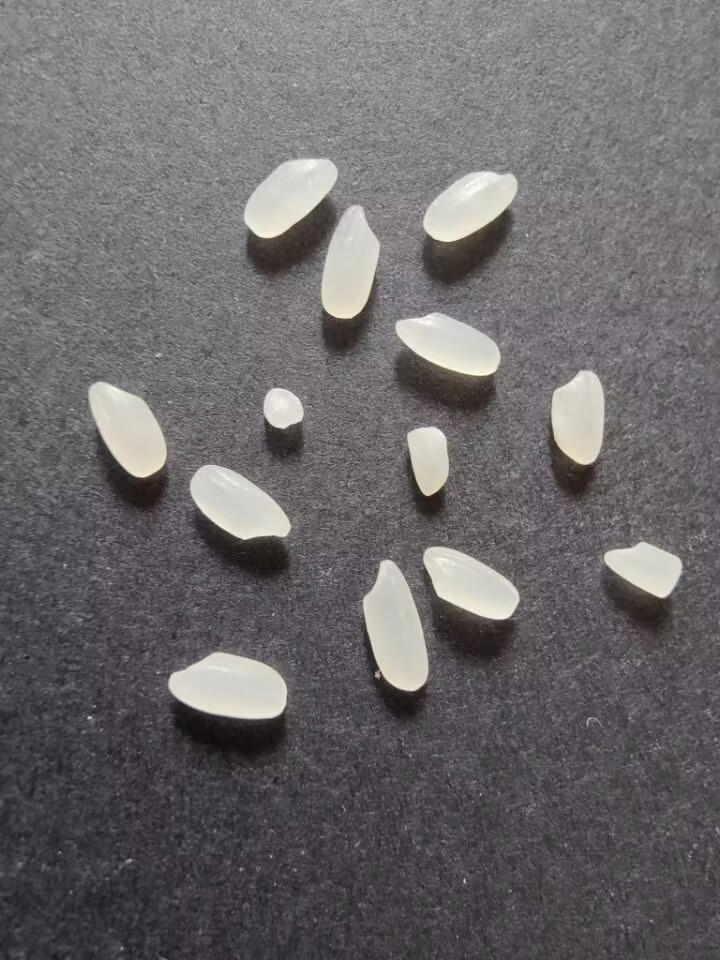broken: (598, 533, 692, 606), (399, 422, 460, 500), (256, 382, 312, 434)
rice: (158, 645, 294, 725), (359, 554, 431, 701), (413, 539, 527, 625), (84, 374, 171, 486), (181, 462, 293, 548), (237, 148, 340, 241), (390, 306, 509, 384), (316, 198, 385, 327), (416, 166, 523, 247), (542, 362, 610, 470)
